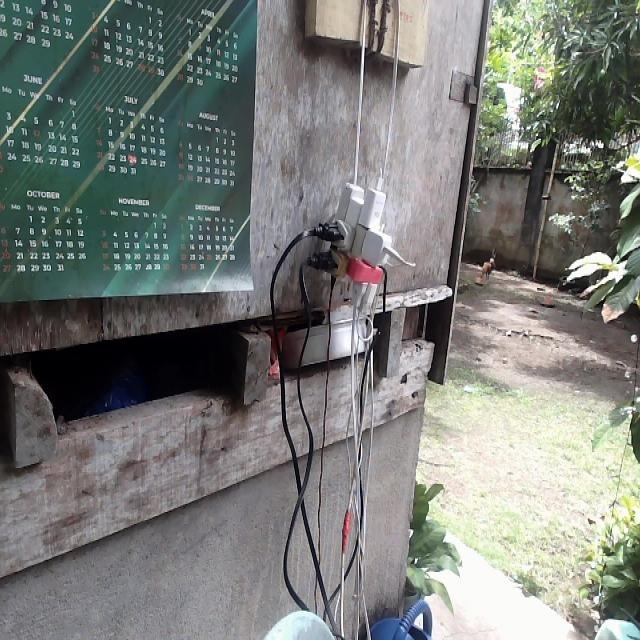-: (311, 173, 421, 315)
